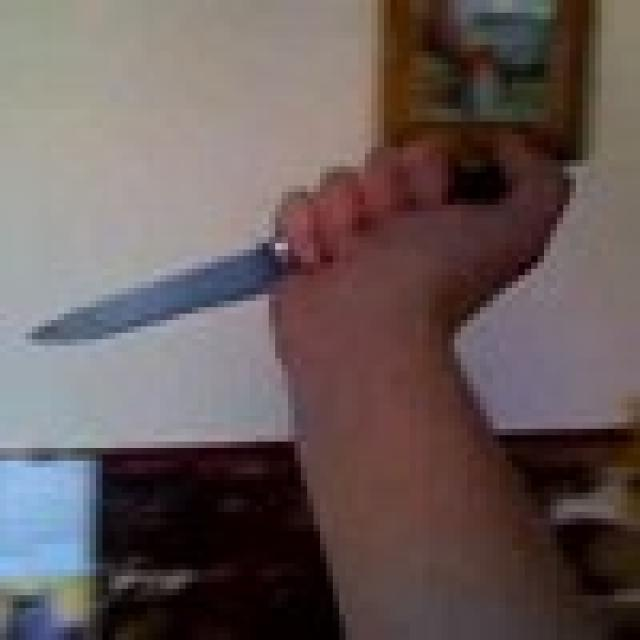knife: (0, 172, 538, 382)
